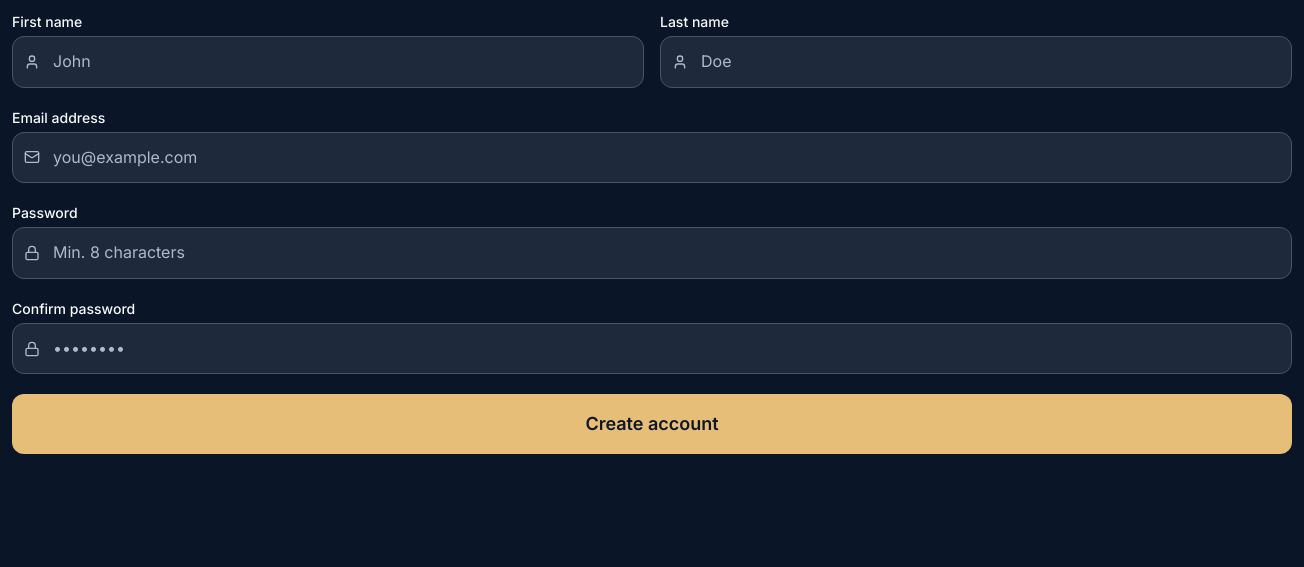
RegisterForm › shows a password length error when password is too short
The image size is (1304, 567).
Type "123" into the password field labelled "Password". click: (652, 253)
box: [12,227,1292,279]
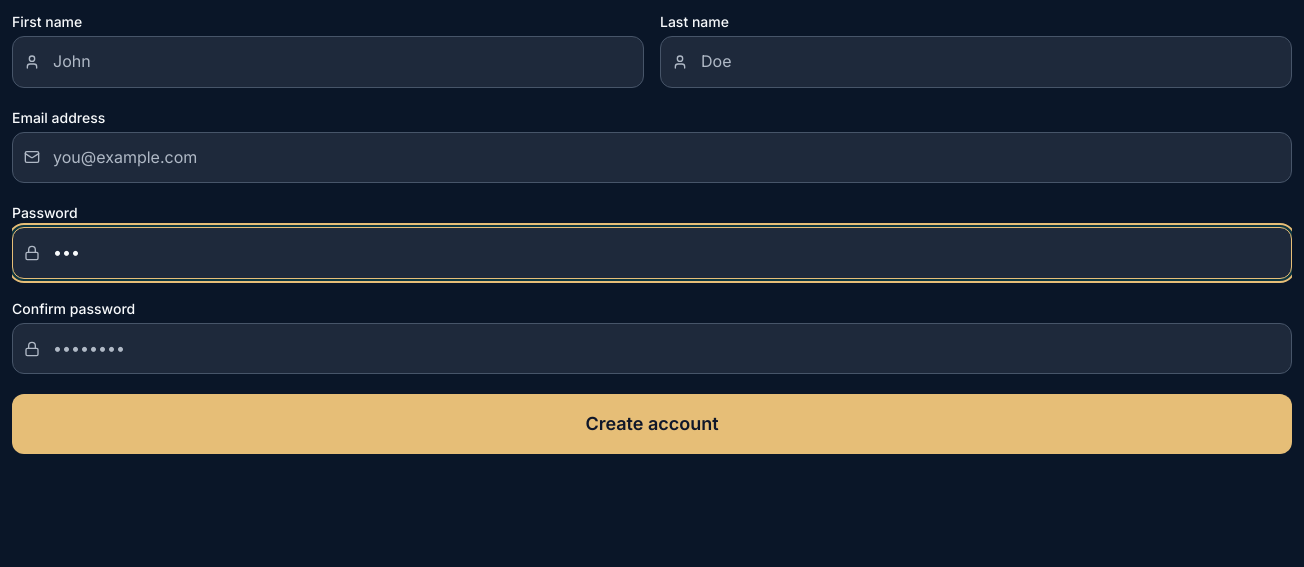
Click the button "Create account". click: (652, 424)
box: [12,394,1292,454]
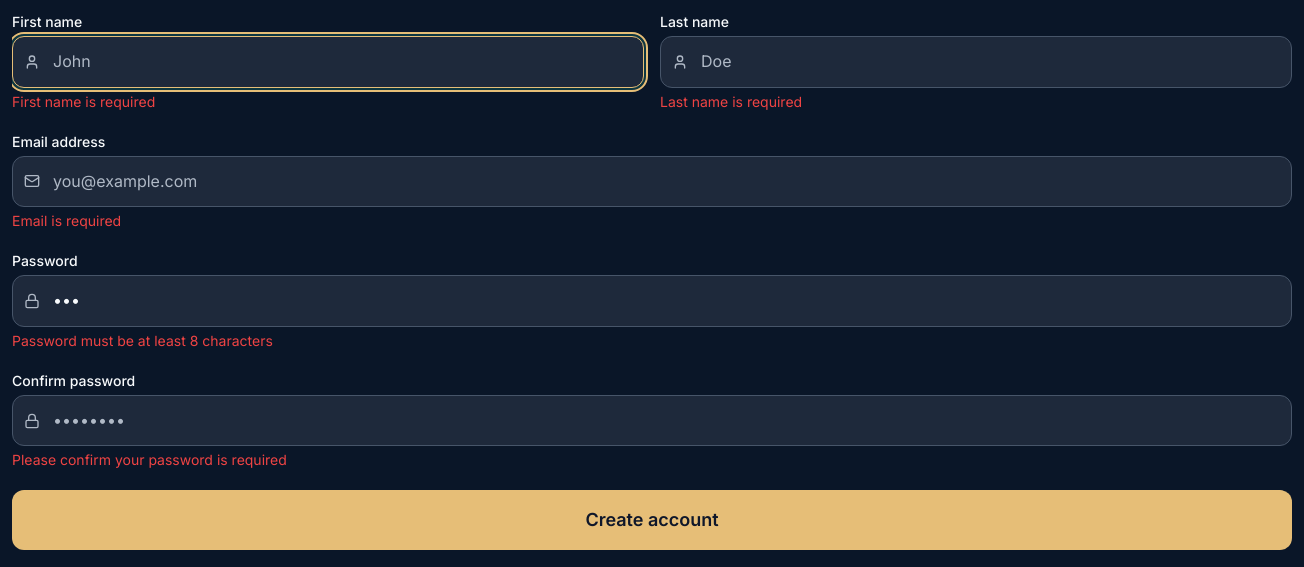
Result: the text "Password must be at least 8 characters" is shown at [12,332,273,349]
